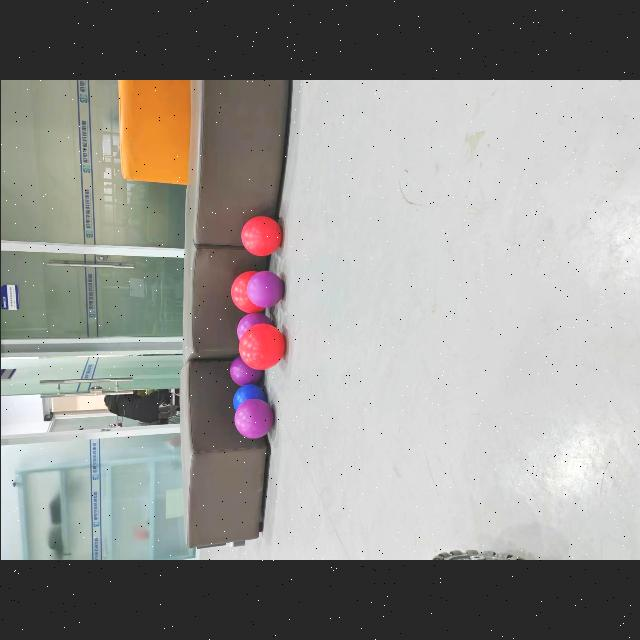B: (232, 385, 264, 410)
P: (234, 399, 273, 439), (246, 271, 283, 307), (236, 313, 271, 340), (229, 357, 261, 386)
R: (237, 323, 284, 370), (240, 216, 281, 257), (230, 271, 263, 313), (255, 235, 257, 238)
